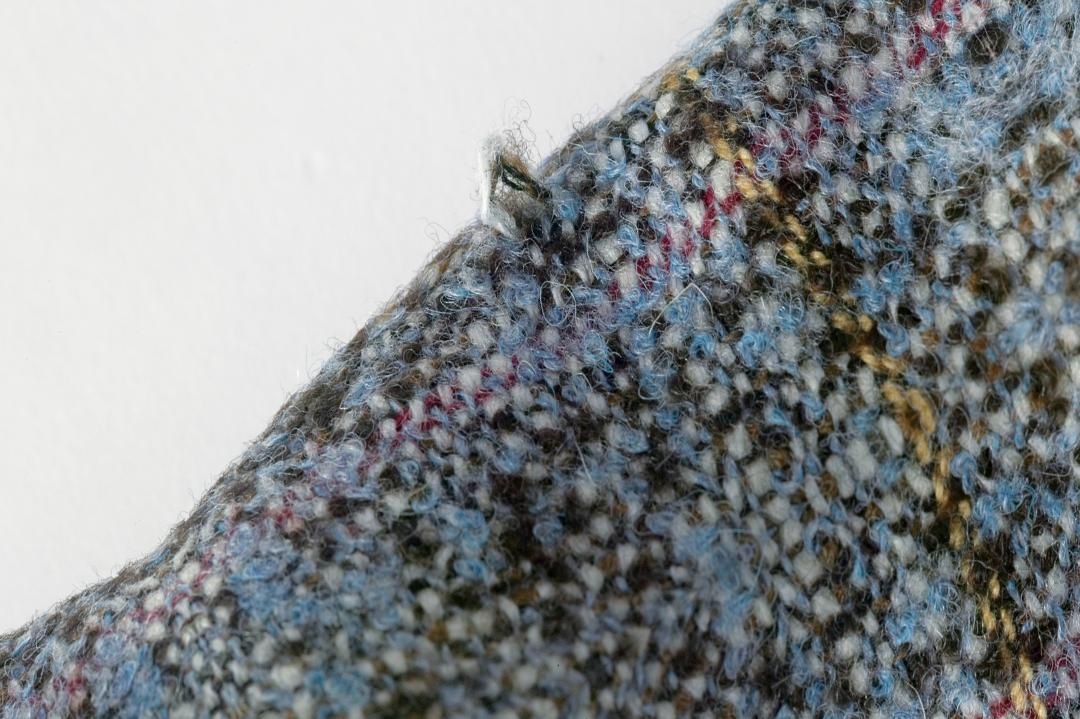snag: (462, 115, 586, 283)
